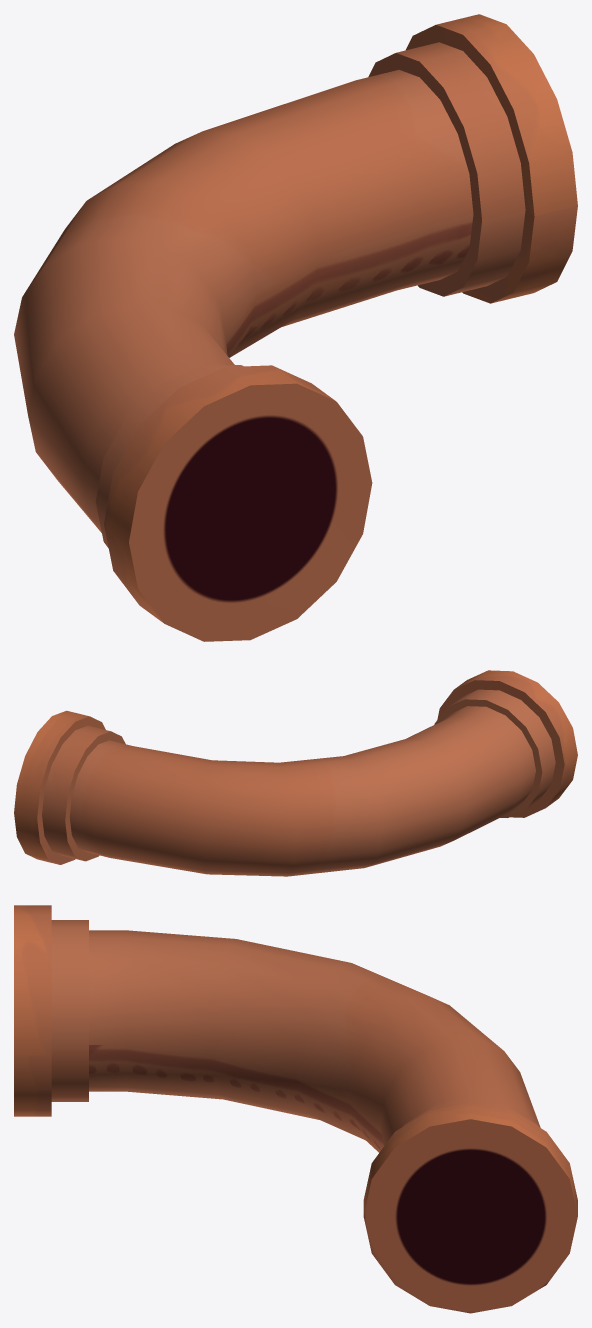
The model's file is 90pipe.fbx.
The picture shows the model from 3 angles, top to bottom: view 1: azimuth 30°, elevation 25°; view 2: azimuth 150°, elevation 25°; view 3: azimuth 270°, elevation 25°; orthographic projection. The views are drawn at different scales.
Parts seen in each view (by area): view 1: pipe90; view 2: pipe90; view 3: pipe90.
Part boxes in pixels (<box>): pipe90: <box>14,14,577,641</box>; pipe90: <box>14,670,577,876</box>; pipe90: <box>14,905,577,1313</box>.
Bounding box in the file's own units: 732 × 265 × 698.
